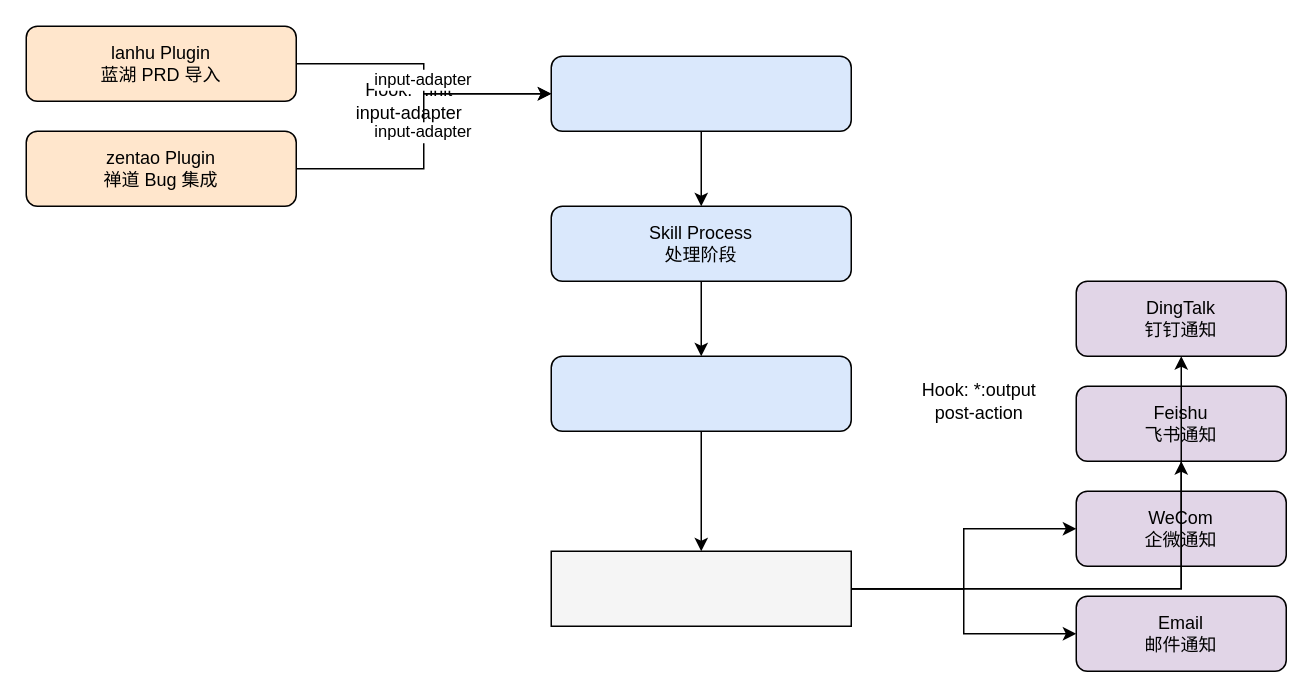
Some shapes in this 1313 by 698 pixel diagram are drawn without their labels. Here are the shapes that lost their labels. From the top down, the centre of each, then its label:
At (700,93): "Skill Init 初始化阶段".
At (700,393): "Skill Output 产出阶段".
At (700,588): "plugin-loader.ts check / notify".
